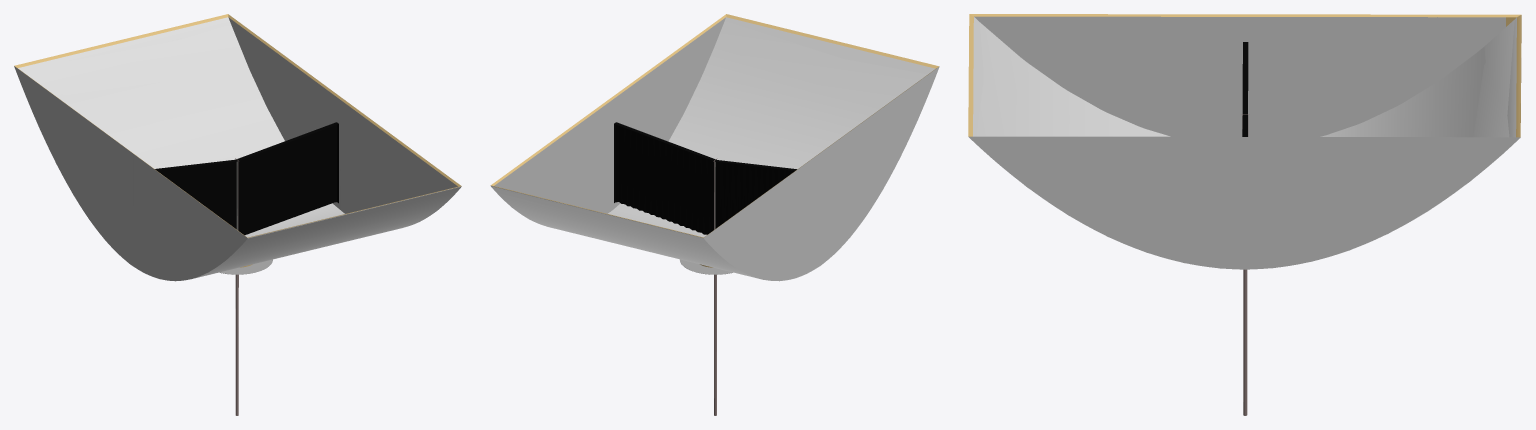
The model's file is Boat_Radiator.glb.
3 renders of one model, left to right at view 1: azimuth 30°, elevation 25°; view 2: azimuth 150°, elevation 25°; view 3: azimuth 270°, elevation 25°, orthographic. The views are drawn at different scales.
Visible parts, largest first — view 1: RotatingRad-LOD0, RotatingRad, RotatingRad_Base; view 2: RotatingRad-LOD0, RotatingRad, RotatingRad_Base; view 3: RotatingRad-LOD0, RotatingRad, RotatingRad_Base.
Boxes of the visible parts, x1,y1,x2,y2 form: RotatingRad-LOD0: (19, 24, 458, 281); RotatingRad: (14, 14, 461, 280); RotatingRad_Base: (219, 259, 272, 415); RotatingRad-LOD0: (497, 17, 939, 281); RotatingRad: (490, 14, 939, 280); RotatingRad_Base: (680, 259, 732, 415); RotatingRad-LOD0: (968, 14, 1521, 269); RotatingRad: (968, 14, 1521, 269); RotatingRad_Base: (1243, 269, 1247, 415).
Size of what is drawn, in the model's own units: 22.8 by 29.32 by 43.27.
